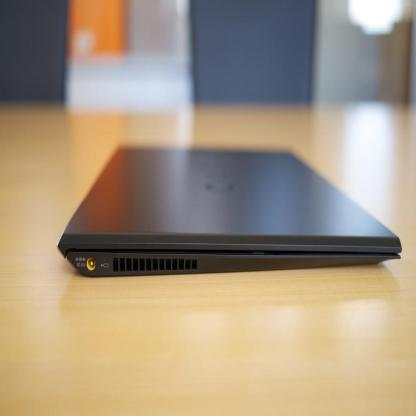board: (60, 128, 402, 278)
